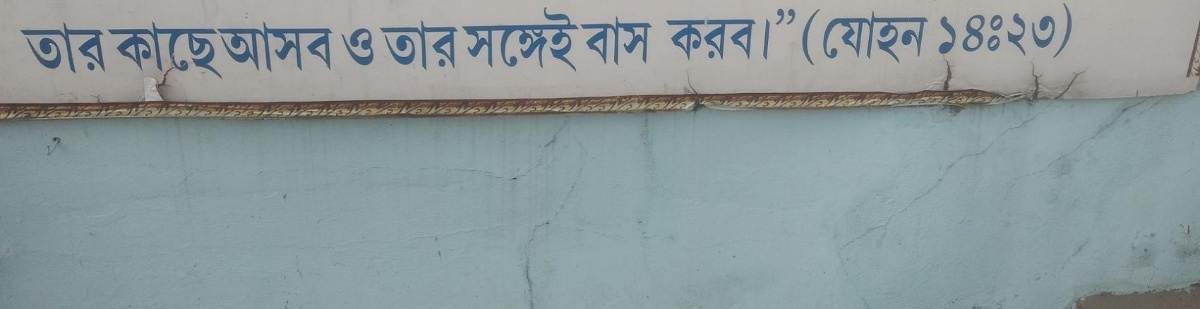text: (465, 5, 480, 75), (481, 5, 496, 75), (497, 5, 512, 75), (513, 5, 528, 75), (529, 5, 544, 75), (545, 5, 560, 75), (561, 5, 576, 75), (817, 7, 832, 74), (833, 7, 848, 74), (849, 7, 864, 74), (865, 7, 880, 74), (881, 7, 896, 74), (897, 7, 912, 74), (913, 7, 928, 74), (33, 20, 48, 82), (49, 20, 64, 82), (65, 20, 80, 82), (81, 20, 96, 82), (113, 22, 128, 83), (129, 22, 144, 83), (145, 22, 160, 83), (161, 22, 176, 83), (177, 22, 192, 83), (193, 22, 208, 83), (209, 22, 224, 83), (945, 1, 960, 61), (961, 1, 976, 61), (977, 1, 992, 61), (993, 1, 1008, 61), (1009, 1, 1024, 61), (1025, 1, 1040, 61), (1041, 1, 1056, 61), (1057, 1, 1072, 61), (673, 7, 688, 66), (689, 7, 704, 66), (705, 7, 720, 66), (721, 7, 736, 66), (737, 7, 752, 66), (753, 7, 768, 66), (769, 7, 784, 66), (225, 19, 240, 77), (241, 19, 256, 77), (257, 19, 272, 77), (273, 19, 288, 77), (289, 19, 304, 77), (305, 19, 320, 77), (804, 7, 816, 74), (385, 19, 400, 72), (401, 19, 416, 72), (417, 19, 432, 72), (433, 19, 448, 72), (593, 14, 608, 67), (609, 14, 624, 67), (625, 14, 640, 67), (785, 7, 798, 66), (321, 19, 334, 77), (20, 20, 32, 82), (97, 20, 109, 82), (641, 14, 655, 67), (353, 24, 368, 68), (449, 19, 461, 72), (580, 14, 592, 67), (339, 24, 352, 68), (215, 19, 224, 77), (664, 7, 672, 66), (929, 7, 936, 74), (577, 5, 583, 75), (937, 1, 944, 61), (369, 24, 377, 68), (1073, 1, 1078, 61), (379, 19, 384, 72), (108, 22, 112, 83), (462, 5, 464, 75), (225, 22, 226, 83)
